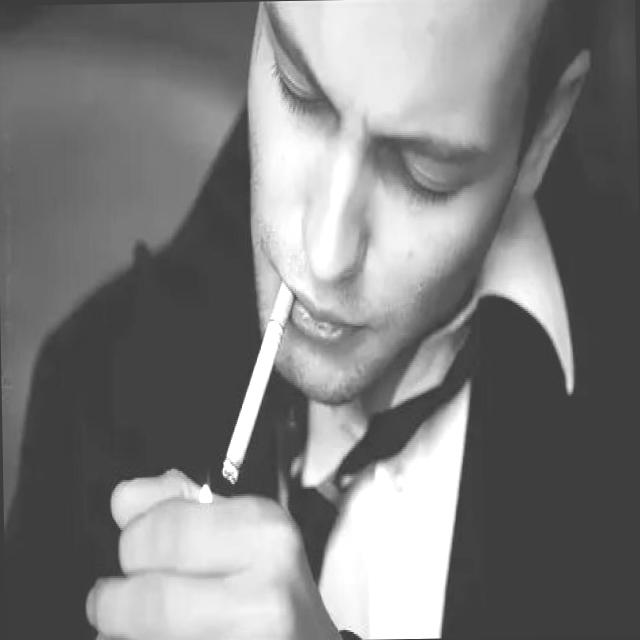smoke: (217, 270, 300, 492)
